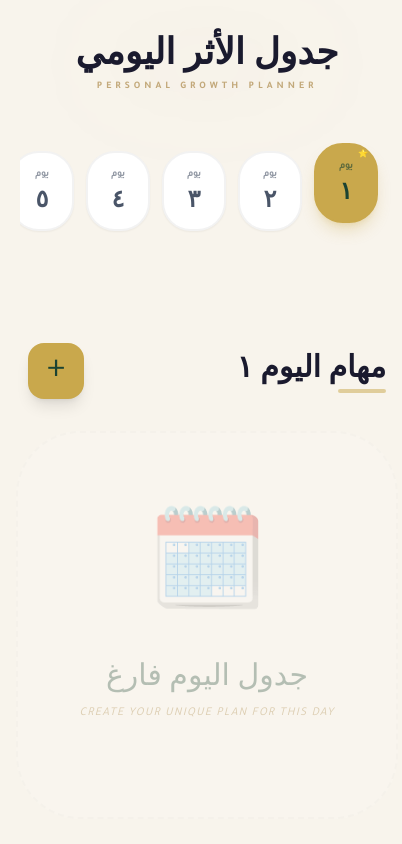
RamadanPlanner Component › allows adding a new custom task
Note: Click the Add button (+ icon)
Click the button "+" at point(56, 371), box top-left (28, 343), bottom-right (84, 399)
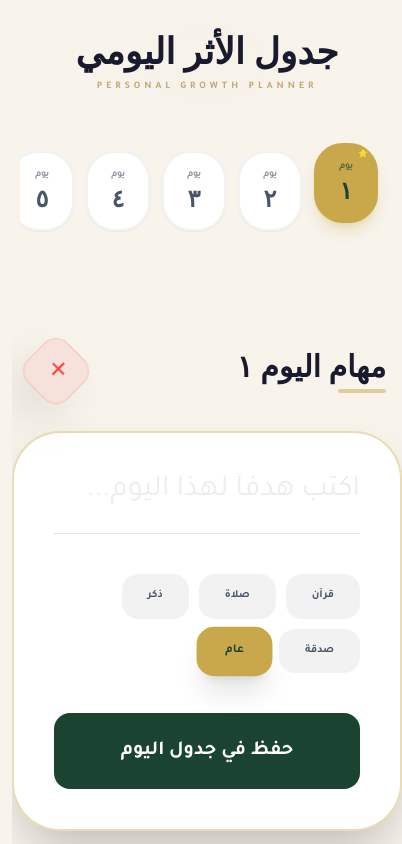
Note: Type in the input
Type "صلاة ركعتين شكر" into the field with placeholder "اكتب هدفاً لهذا اليوم..." at point(207, 504), box top-left (54, 473), bottom-right (360, 534)
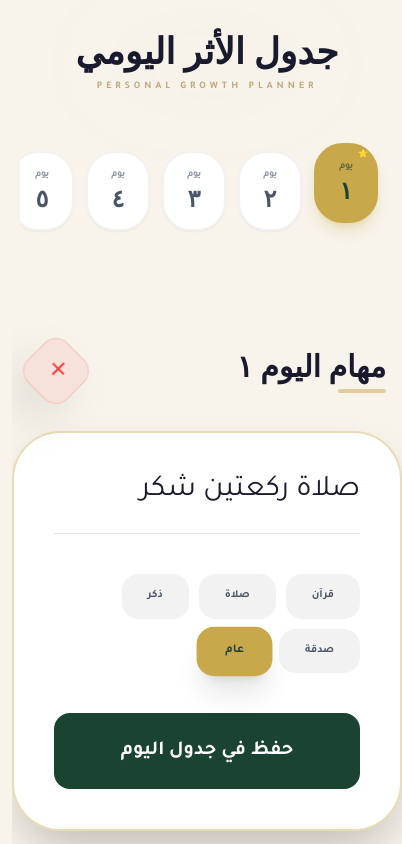
Note: Select category and submit
Click the button "حفظ في جدول اليوم" at point(207, 751), box top-left (54, 713), bottom-right (360, 789)
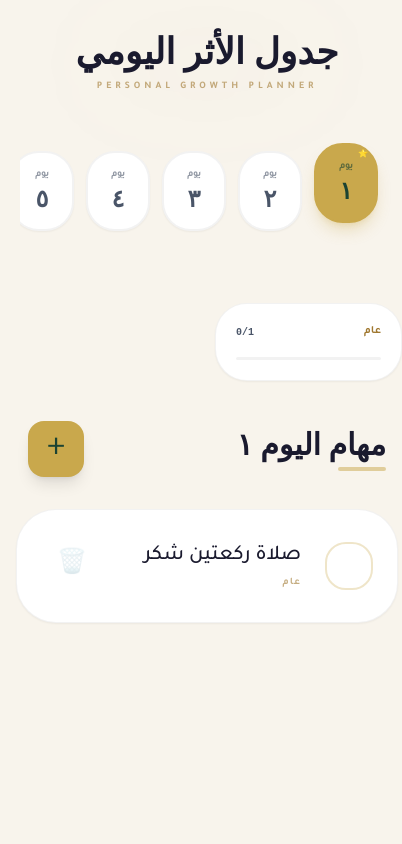
Expected: the text "صلاة ركعتين شكر" is shown, top-left (144, 540), bottom-right (301, 572)
